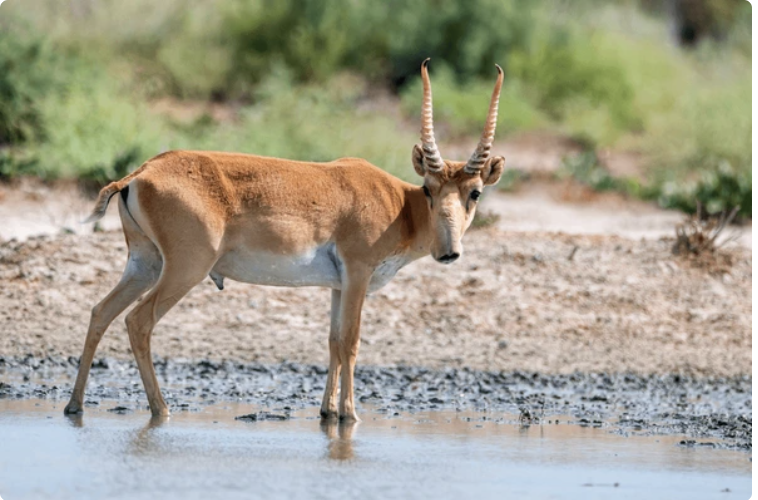saiga: (64, 59, 514, 433)
